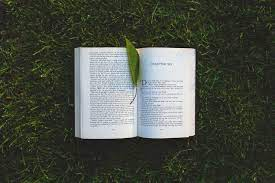Book: (70, 49, 197, 140)
